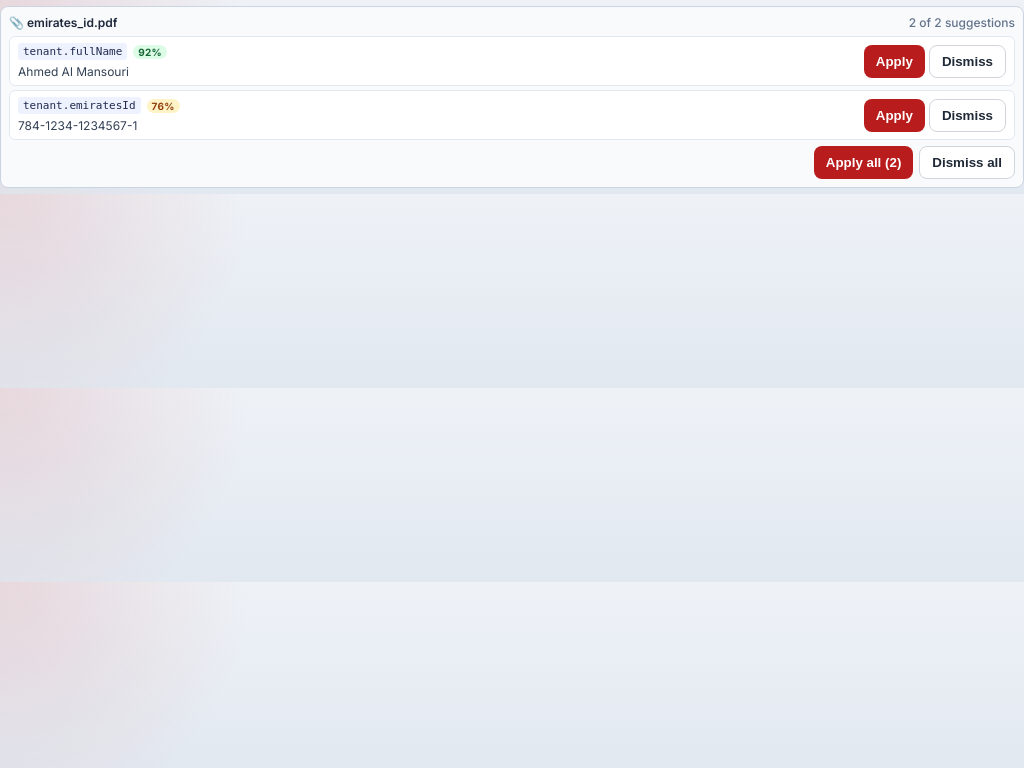
Test: FileExtractionPanel — Apply › shows "✓ Applied" after applying a suggestion
The width and height of the screenshot is (1024, 768).
Click the button "Apply" in the row of "fullName".
click(894, 61)  # box [864,44,925,78]
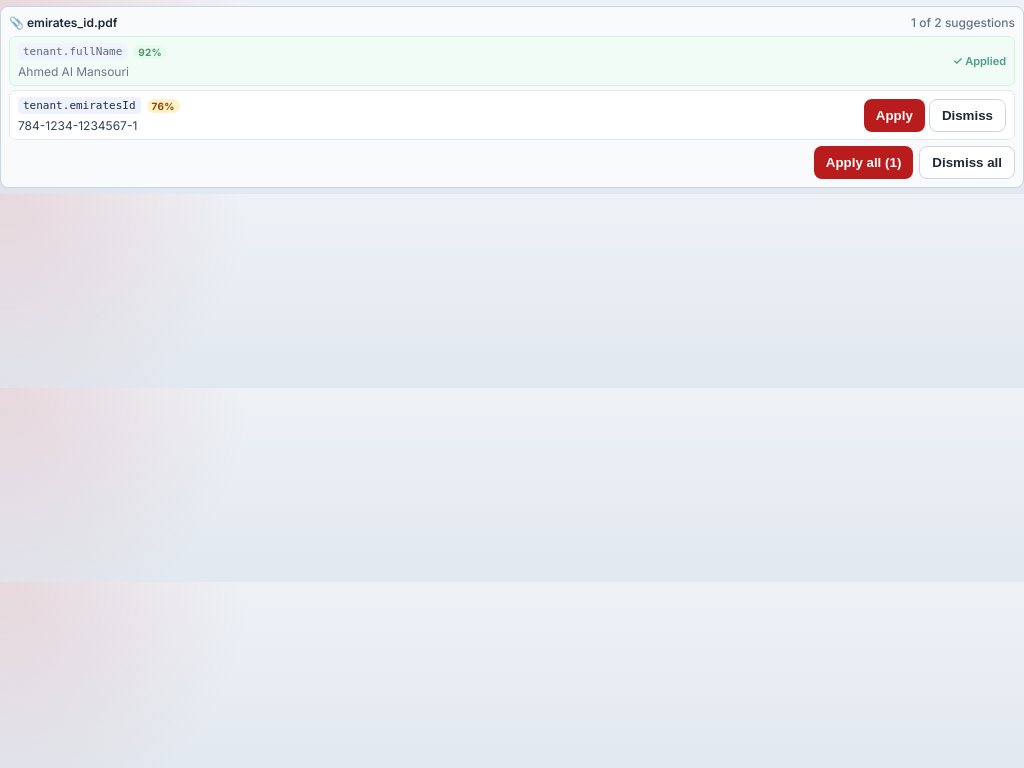
Now the text "✓ Applied" is shown, box [953,54,1006,68]
